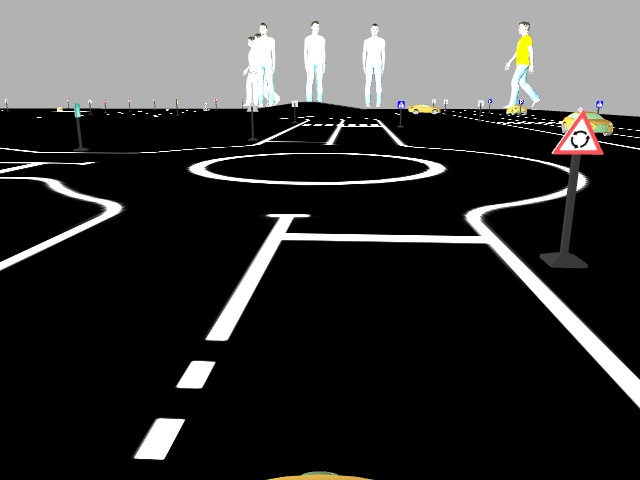Roundabout: (550, 111, 605, 155)
